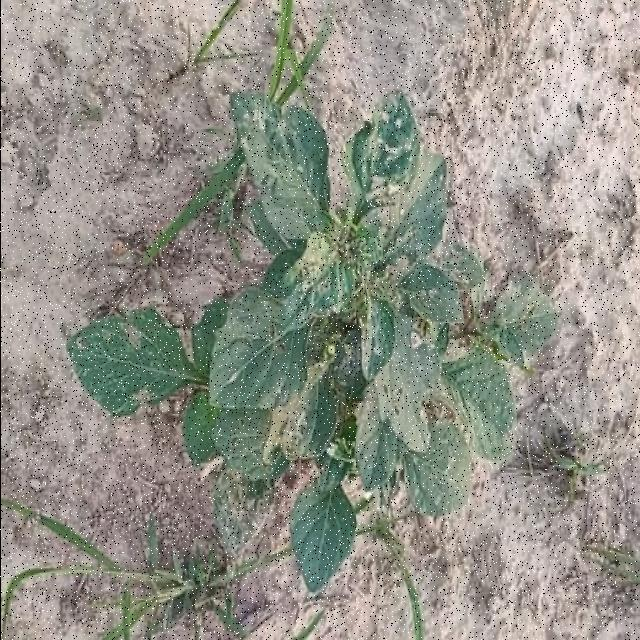weed: (66, 96, 556, 591)
